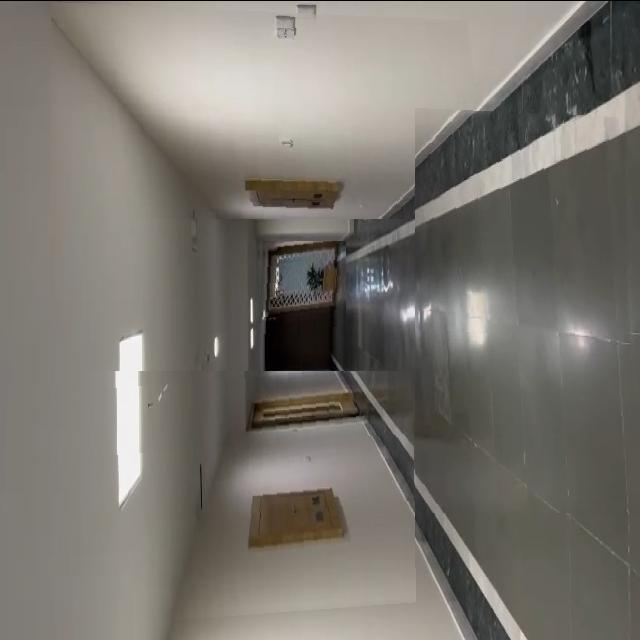door: (254, 240, 346, 343)
floor: (415, 106, 640, 512)
wall: (52, 0, 490, 218), (82, 370, 416, 626)
